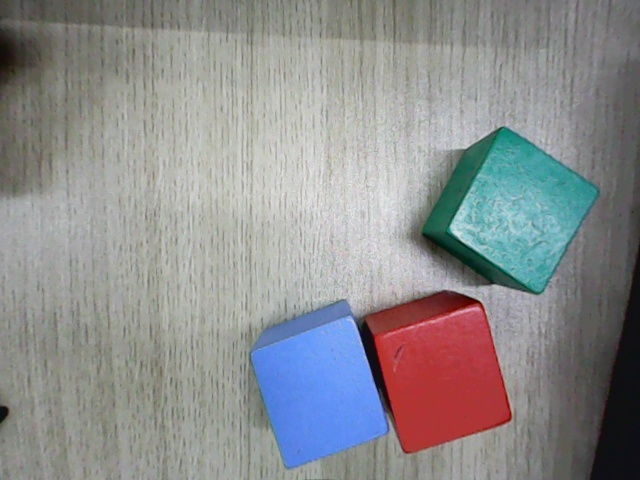upside of big cube: (448, 126, 600, 294), (249, 319, 389, 469), (376, 306, 512, 453)
